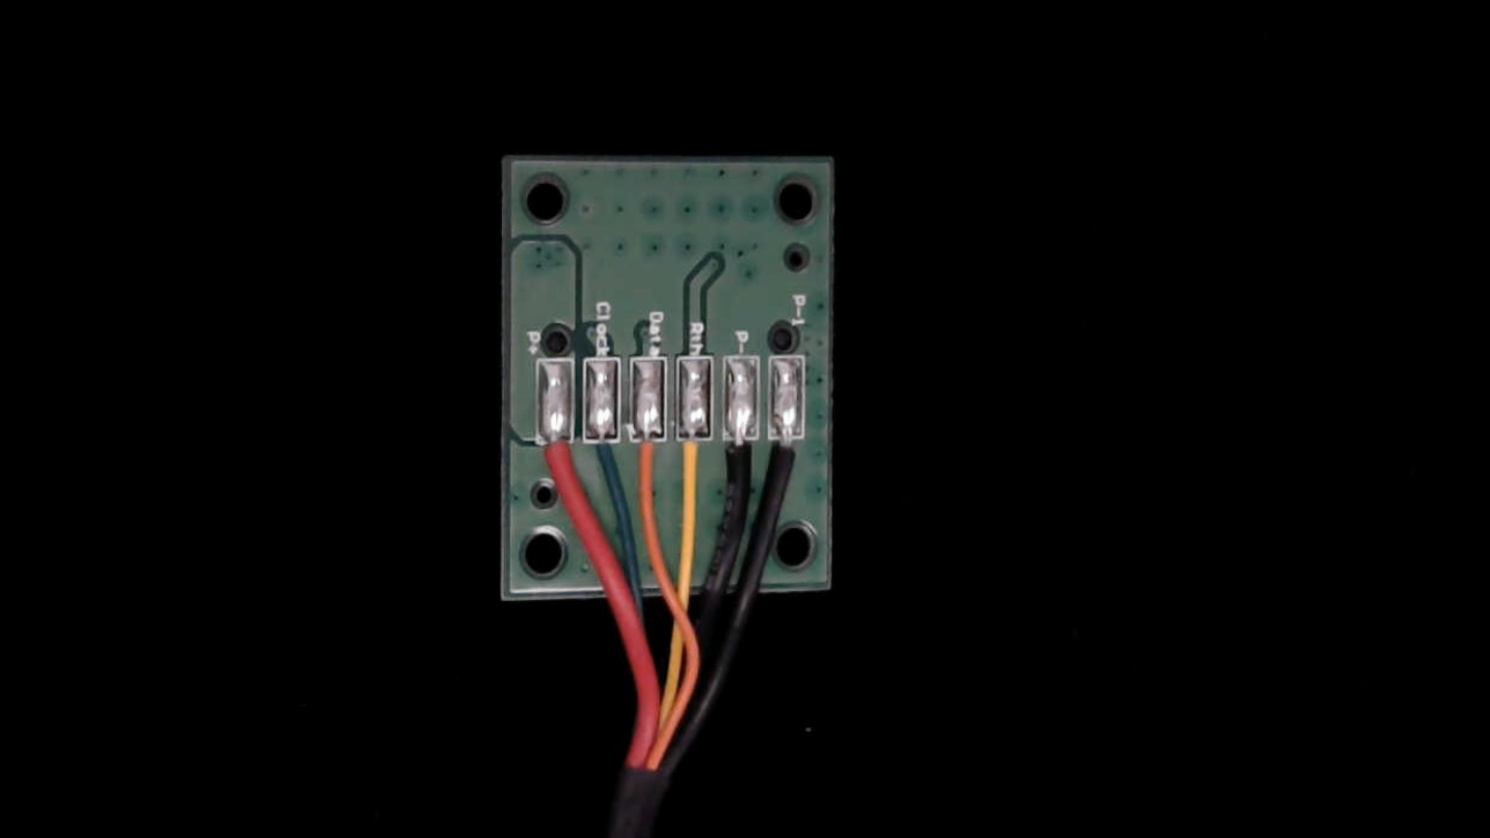Black: (722, 409, 763, 506)
Black1: (771, 411, 810, 501)
Green: (584, 414, 623, 495)
Orange: (631, 414, 669, 511)
Red: (536, 417, 577, 512)
Yellow: (672, 413, 713, 513)
